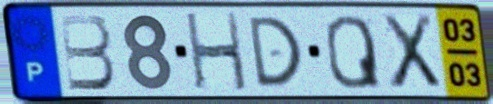8: (120, 11, 176, 93)
B: (57, 12, 119, 93)
D: (245, 14, 305, 90)
H: (182, 10, 251, 93)
Q: (323, 12, 384, 91)
X: (378, 11, 444, 92)
